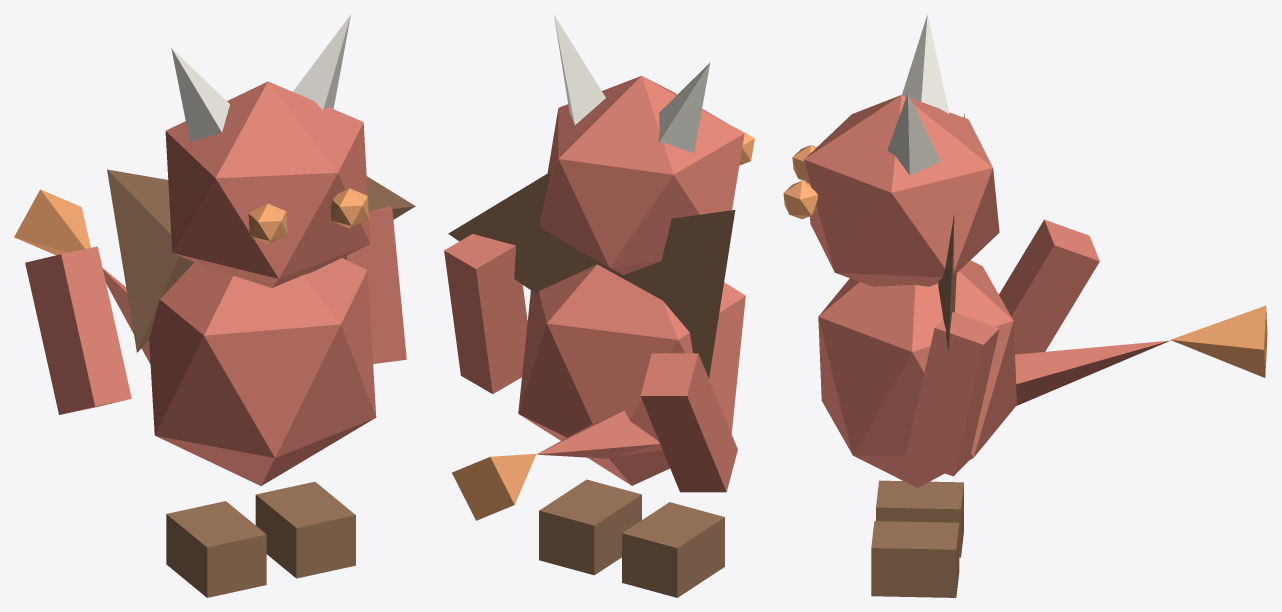
Rendered from npcpose_imp_idle_11.glb.
3 renders of one model, left to right at view 1: azimuth 30°, elevation 25°; view 2: azimuth 150°, elevation 25°; view 3: azimuth 270°, elevation 25°, orthographic. The views are drawn at different scales.
Parts seen in each view (by area): view 1: npcpose; view 2: npcpose; view 3: npcpose.
Boxes of the visible parts, box(x1,y1,x2,y2) form: npcpose: box(14, 14, 415, 597); npcpose: box(444, 15, 754, 597); npcpose: box(783, 14, 1267, 597).
Size of the model in its own units: 0.6628 by 1.06 by 0.9095.
